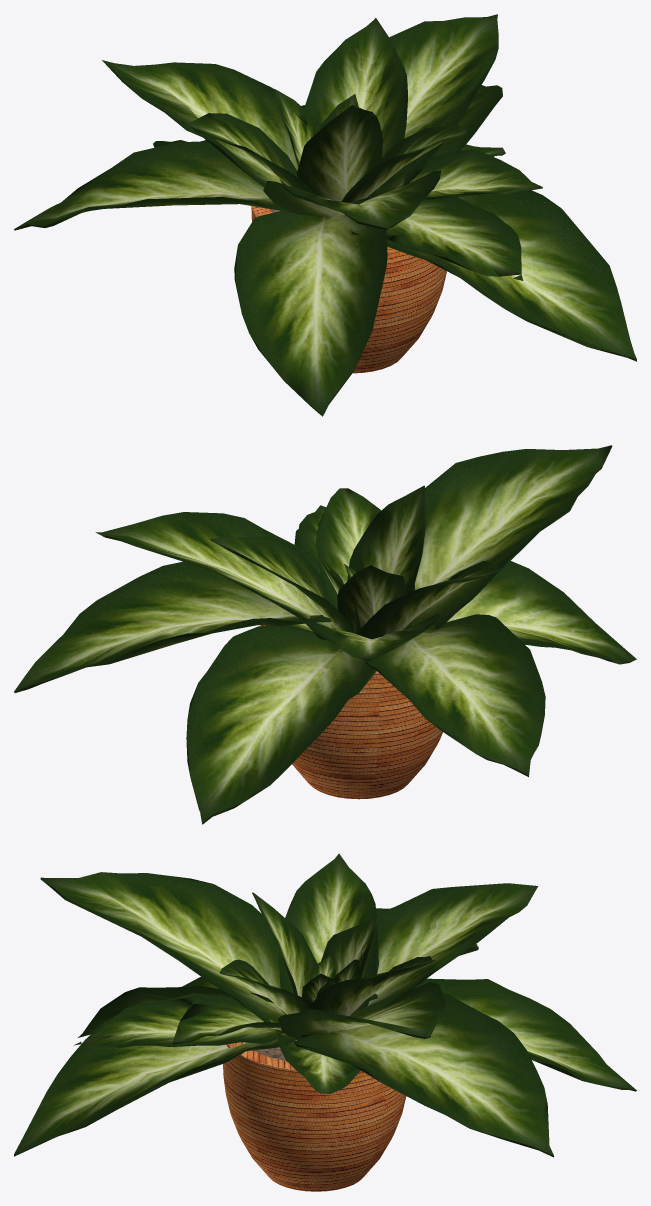
Rendered from Plant 2.FBX.
3 renders of one model, top to bottom at view 1: azimuth 30°, elevation 25°; view 2: azimuth 150°, elevation 25°; view 3: azimuth 270°, elevation 25°, orthographic. The views are drawn at different scales.
Visible parts, largest first — view 1: Plant 2; view 2: Plant 2; view 3: Plant 2.
Part boxes in pixels (x1,y1,x2,y2): Plant 2: (14,14,636,416); Plant 2: (14,445,636,824); Plant 2: (14,853,636,1191).
Bounding box in the file's own units: 40.3 × 22.47 × 48.18.
3 materials, 3 textured.
